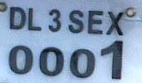character: (99, 39, 125, 81), (68, 47, 96, 78), (7, 44, 34, 75), (38, 46, 64, 77), (105, 10, 124, 36), (8, 5, 26, 31), (26, 6, 43, 32), (87, 9, 104, 35), (67, 9, 84, 34), (47, 8, 62, 33)
